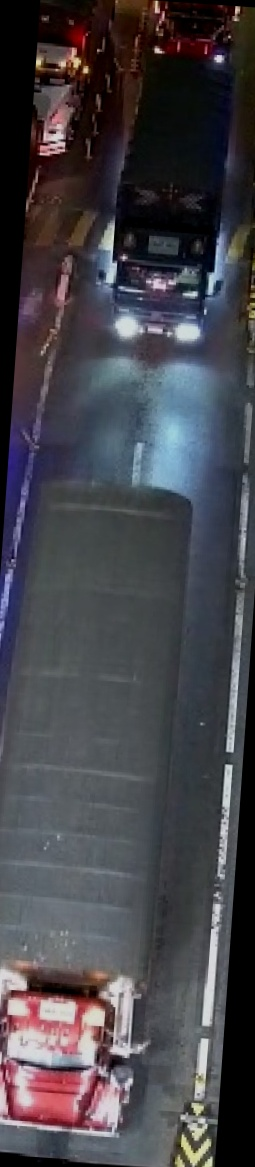truck: (0, 483, 193, 1142), (102, 54, 239, 346), (31, 0, 114, 155), (142, 1, 249, 65)
